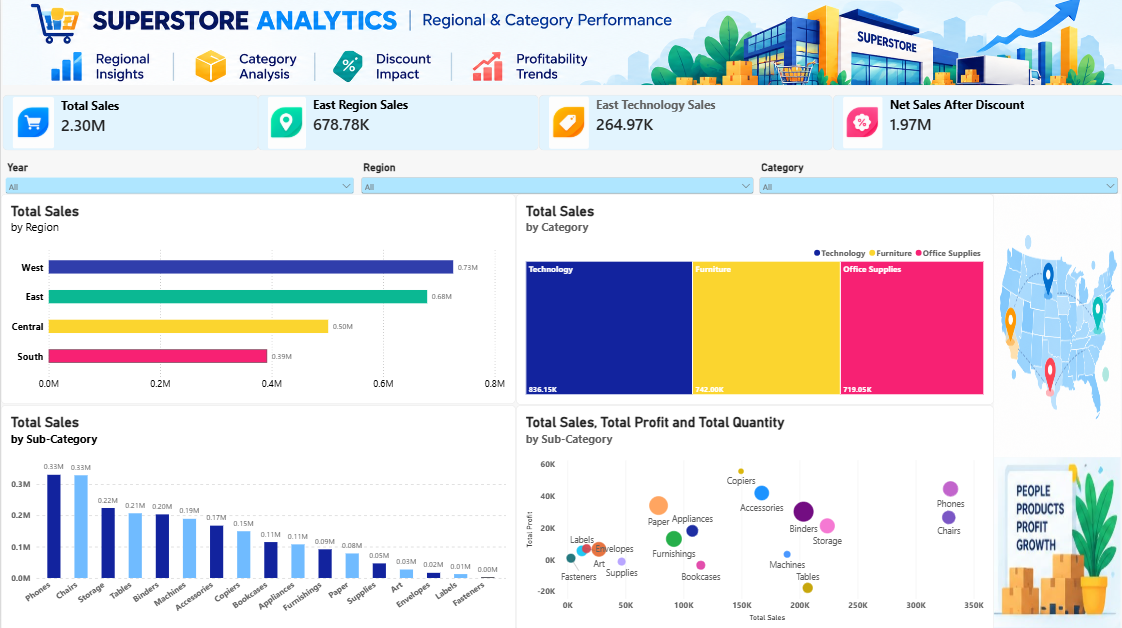

Layout of this report page (visuals, bound fields, positions):
{"tool":"powerbi","page":{"name":"Regional & Category Performance","canvas":[1920,1080],"ordinal":1},"visuals":[{"type":"clusteredBarChart","fields":{"Category":["Orders.Region"],"Y":["Orders.Total Sales"]},"box":[0,332.4,879.4,358.8],"z":0},{"type":"treemap","fields":{"Group":["Orders.Category"],"Values":["Orders.Total Sales"]},"box":[880,333.3,816.7,360],"z":1000},{"type":"clusteredColumnChart","fields":{"Category":["Orders.Sub-Category"],"Y":["Orders.Total Sales"]},"box":[0,693.3,880,386.7],"z":2000},{"type":"scatterChart","fields":{"Category":["Orders.Sub-Category"],"Size":["Date.Total Quantity"],"X":["Orders.Total Sales"],"Y":["Date.Total Profit"]},"box":[880,693.3,816.7,386.7],"z":3000},{"type":"slicer","fields":{"Values":["Date.Year"]},"box":[2.9,276.5,605.7,57.1],"z":4000},{"type":"slicer","fields":{"Values":["Orders.Region"]},"box":[611.8,276.5,680,74.3],"z":5000},{"type":"slicer","fields":{"Values":["Orders.Category"]},"box":[1291.2,276.5,622.9,57.1],"z":6000},{"type":"cardVisual","fields":{"Data":["Orders.Total Sales"]},"box":[2.5,165,437.5,95],"z":7000},{"type":"cardVisual","fields":{"Data":["Date.East Region Sales"]},"box":[440,165,480,95],"z":8000},{"type":"cardVisual","fields":{"Data":["Date.East Technology Sales"]},"box":[920,165,502.5,95],"z":9000},{"type":"cardVisual","fields":{"Data":["Date.Net Sales After Discount"]},"box":[1422.5,165,497.5,95],"z":10000},{"type":"image","box":[2.9,0,1917.6,147.1],"z":11000},{"type":"image","box":[1696.7,333.3,216.7,450],"z":12000},{"type":"image","box":[1696.7,783.3,216.7,296.7],"z":13000}]}

Visuals, with their boxes in screenshot pixels (x1, y1, x2, y2), scaled from the page's 1920x1080 canvas onto the 1122x628 screenshot:
clusteredBarChart - Orders.Region x Orders.Total Sales: box=[0, 193, 514, 402]
treemap - Orders.Category x Orders.Total Sales: box=[514, 194, 992, 403]
clusteredColumnChart - Orders.Sub-Category x Orders.Total Sales: box=[0, 403, 514, 627]
scatterChart - Orders.Sub-Category x Date.Total Quantity: box=[514, 403, 992, 627]
slicer - Date.Year: box=[2, 161, 356, 194]
slicer - Orders.Region: box=[358, 161, 755, 204]
slicer - Orders.Category: box=[755, 161, 1119, 194]
cardVisual - Orders.Total Sales: box=[1, 96, 257, 151]
cardVisual - Date.East Region Sales: box=[257, 96, 538, 151]
cardVisual - Date.East Technology Sales: box=[538, 96, 831, 151]
cardVisual - Date.Net Sales After Discount: box=[831, 96, 1121, 151]
image: box=[2, 0, 1121, 86]
image: box=[992, 194, 1118, 455]
image: box=[992, 455, 1118, 627]
